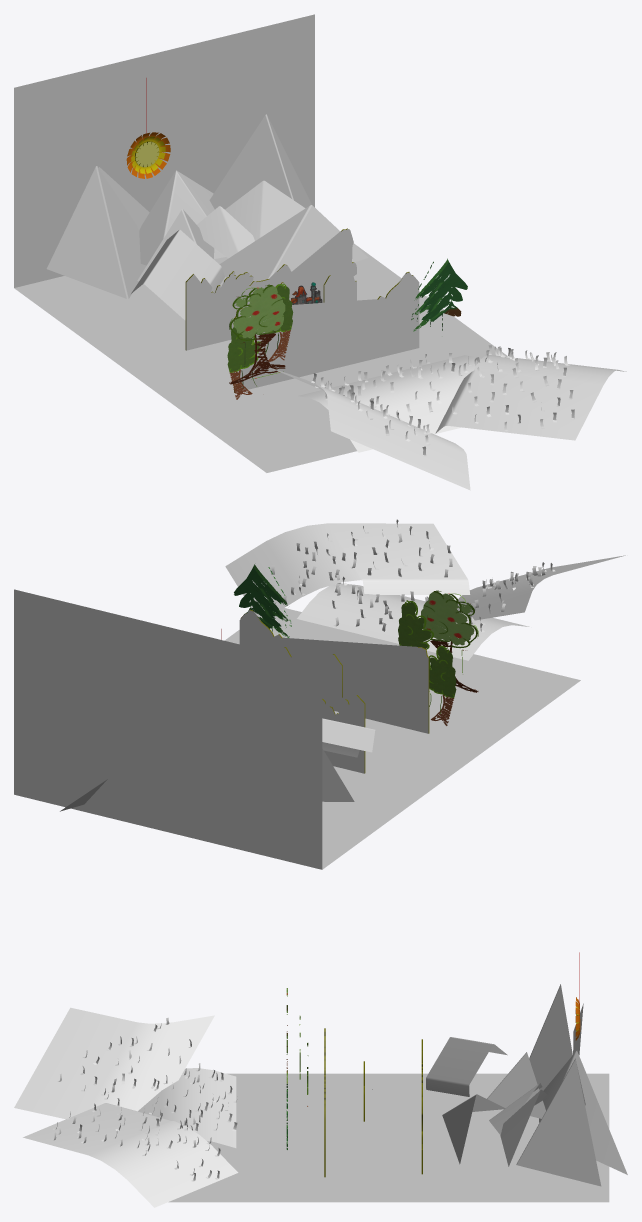
The model's file is cartboard.fbx.
The picture shows the model from 3 angles, top to bottom: view 1: azimuth 30°, elevation 25°; view 2: azimuth 150°, elevation 25°; view 3: azimuth 270°, elevation 25°; orthographic projection. The views are drawn at different scales.
Parts seen in each view (by area): view 1: BG, Mountains, Plane.003, warstwyMiasta-ksztalt, warstwyMiasta-ksztalt.001, Plane.009, drzewo1, drzewo3, Cylinder, drzewo2.001, drzewo2; view 2: BG, Plane.003, warstwyMiasta-ksztalt, Mountains, Plane.009, drzewo1, drzewo3, warstwyMiasta-ksztalt.001, drzewo2.001, drzewo2, TOWERS.001; view 3: BG, Plane.003, Mountains, Plane.009.
Boxes of the visible parts, box(x1,y1,x2,y2) form: BG: box(14, 14, 507, 472); Mountains: box(46, 114, 368, 320); Plane.003: box(269, 355, 626, 490); warstwyMiasta-ksztalt: box(234, 272, 419, 392); warstwyMiasta-ksztalt.001: box(185, 228, 356, 350); Plane.009: box(311, 345, 574, 456); drzewo1: box(229, 284, 285, 384); drzewo3: box(411, 258, 467, 331); Cylinder: box(126, 78, 170, 178); drzewo2.001: box(227, 327, 265, 399); drzewo2: box(256, 283, 293, 369); BG: box(14, 589, 580, 869); Plane.003: box(225, 523, 625, 660); warstwyMiasta-ksztalt: box(239, 609, 429, 733); Mountains: box(60, 718, 375, 811); Plane.009: box(252, 519, 555, 642); drzewo1: box(421, 590, 478, 692); drzewo3: box(234, 564, 291, 637); warstwyMiasta-ksztalt.001: box(322, 695, 365, 773); drzewo2.001: box(429, 645, 456, 725); drzewo2: box(398, 600, 436, 649); TOWERS.001: box(325, 654, 342, 697); BG: box(168, 1073, 609, 1202); Plane.003: box(14, 1007, 238, 1207); Mountains: box(426, 984, 627, 1186); Plane.009: box(52, 1017, 237, 1181).
Size of the model in its own units: 293 by 180 by 501.
